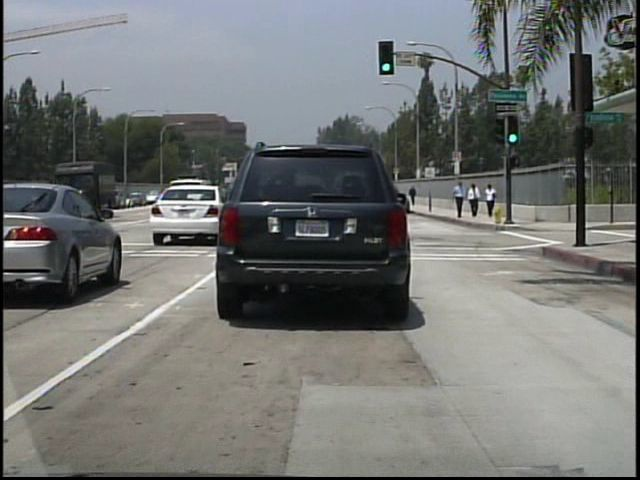person: (452, 178, 467, 219), (467, 180, 481, 216), (483, 180, 497, 215), (407, 184, 417, 206)
